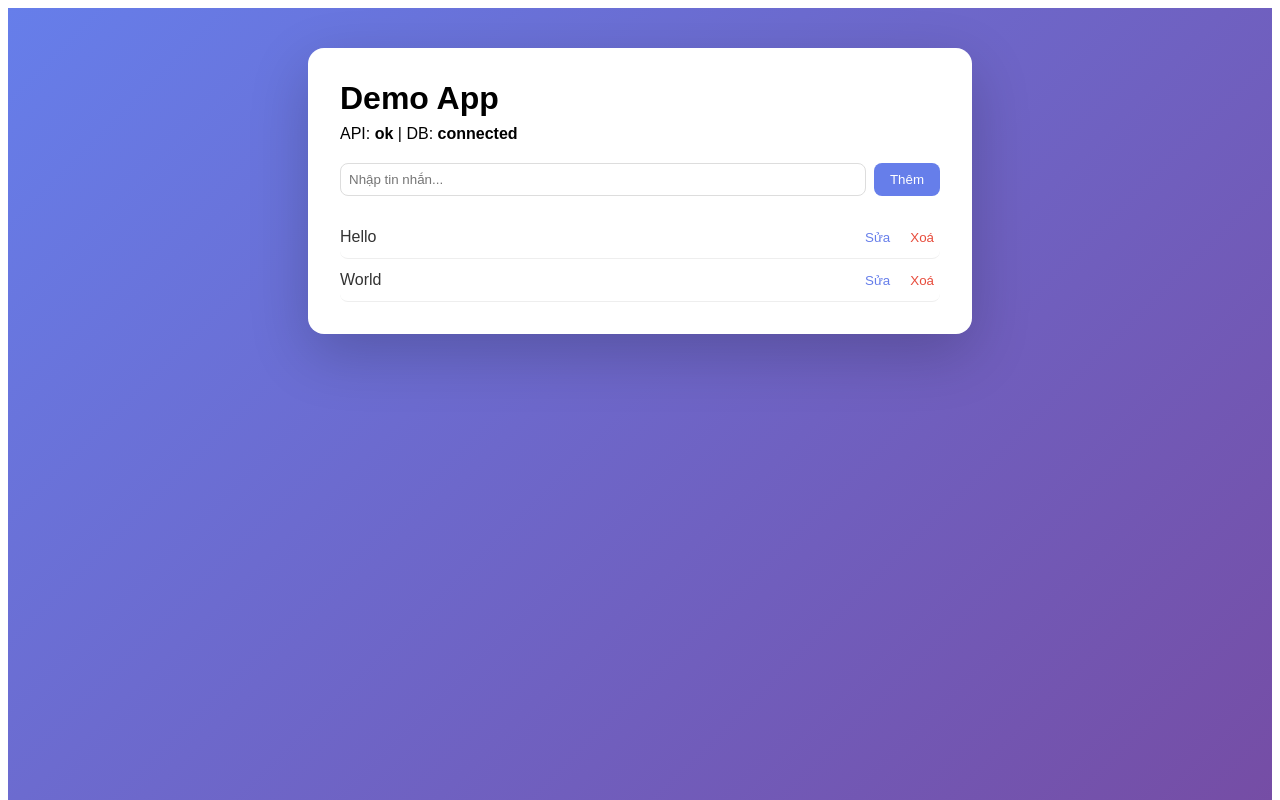
Scenario: App - sửa message › hiển thị input chỉnh sửa khi nhấn Sửa
Expected: the text "Hello" is shown, x1=340 y1=228 x2=376 y2=246
Click the button "Sửa" in the row of "Hello": x=878, y=237 x1=859 y1=228 x2=896 y2=246
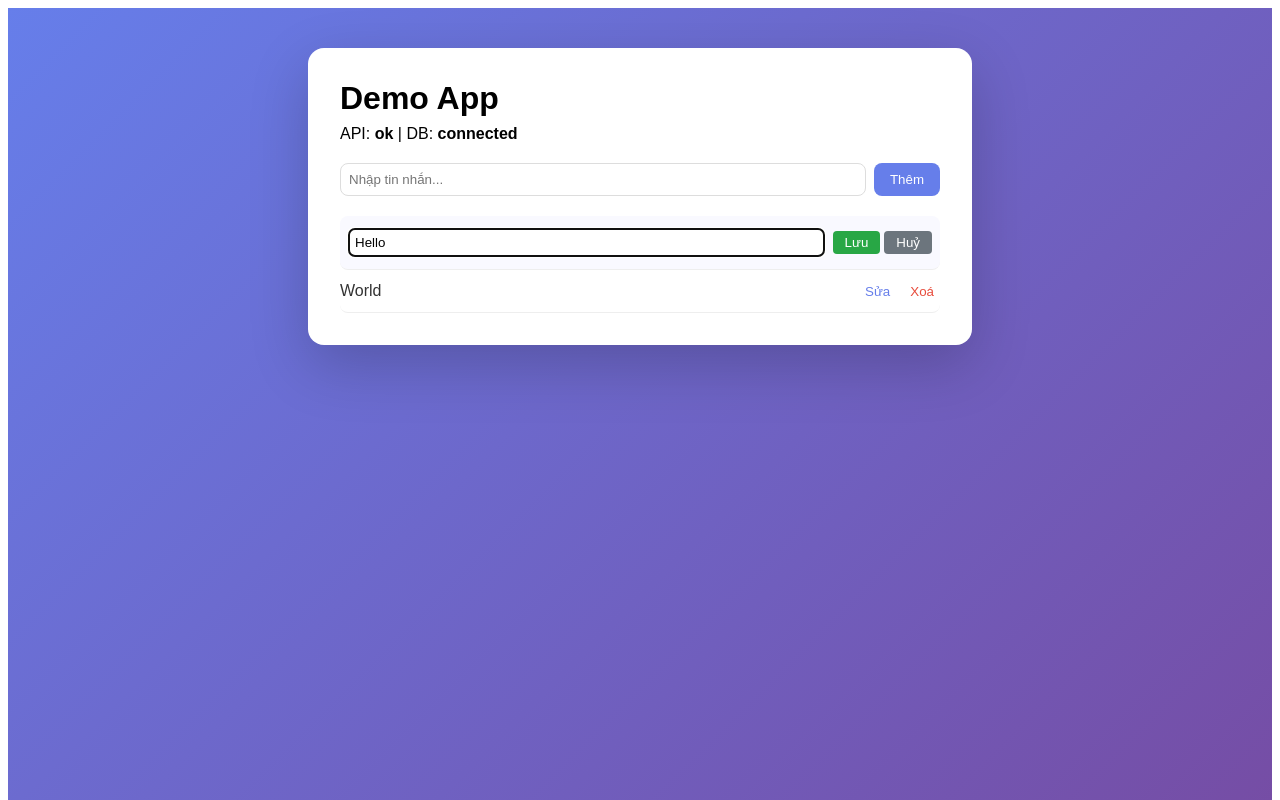
Expected: the field showing "Hello" is shown, x1=348 y1=228 x2=824 y2=257
